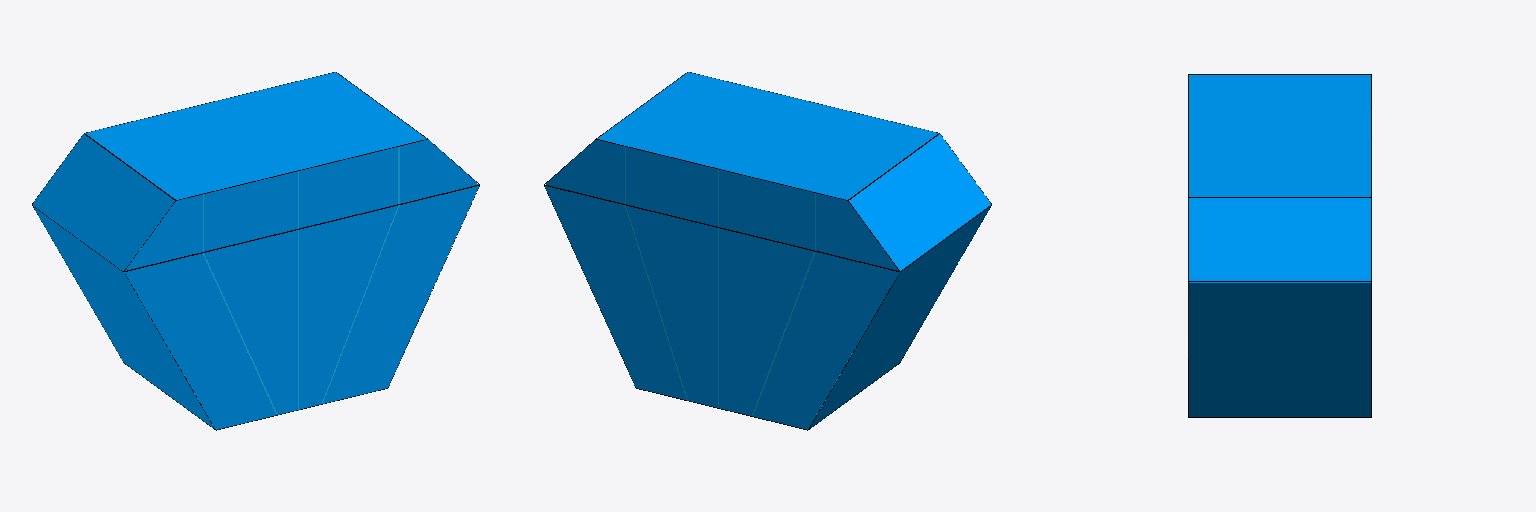
3 renders of one model, left to right at view 1: azimuth 30°, elevation 25°; view 2: azimuth 150°, elevation 25°; view 3: azimuth 270°, elevation 25°, orthographic.
Parts seen in each view (by area): view 1: Cube; view 2: Cube; view 3: Cube.
Part boxes in pixels (x1,y1,x2,y2): Cube: (32, 72, 479, 430); Cube: (544, 72, 991, 430); Cube: (1188, 74, 1371, 417).
Size of the model in its own units: 2 by 1.29 by 0.8939.
Materials: 1 (1 with a texture image).